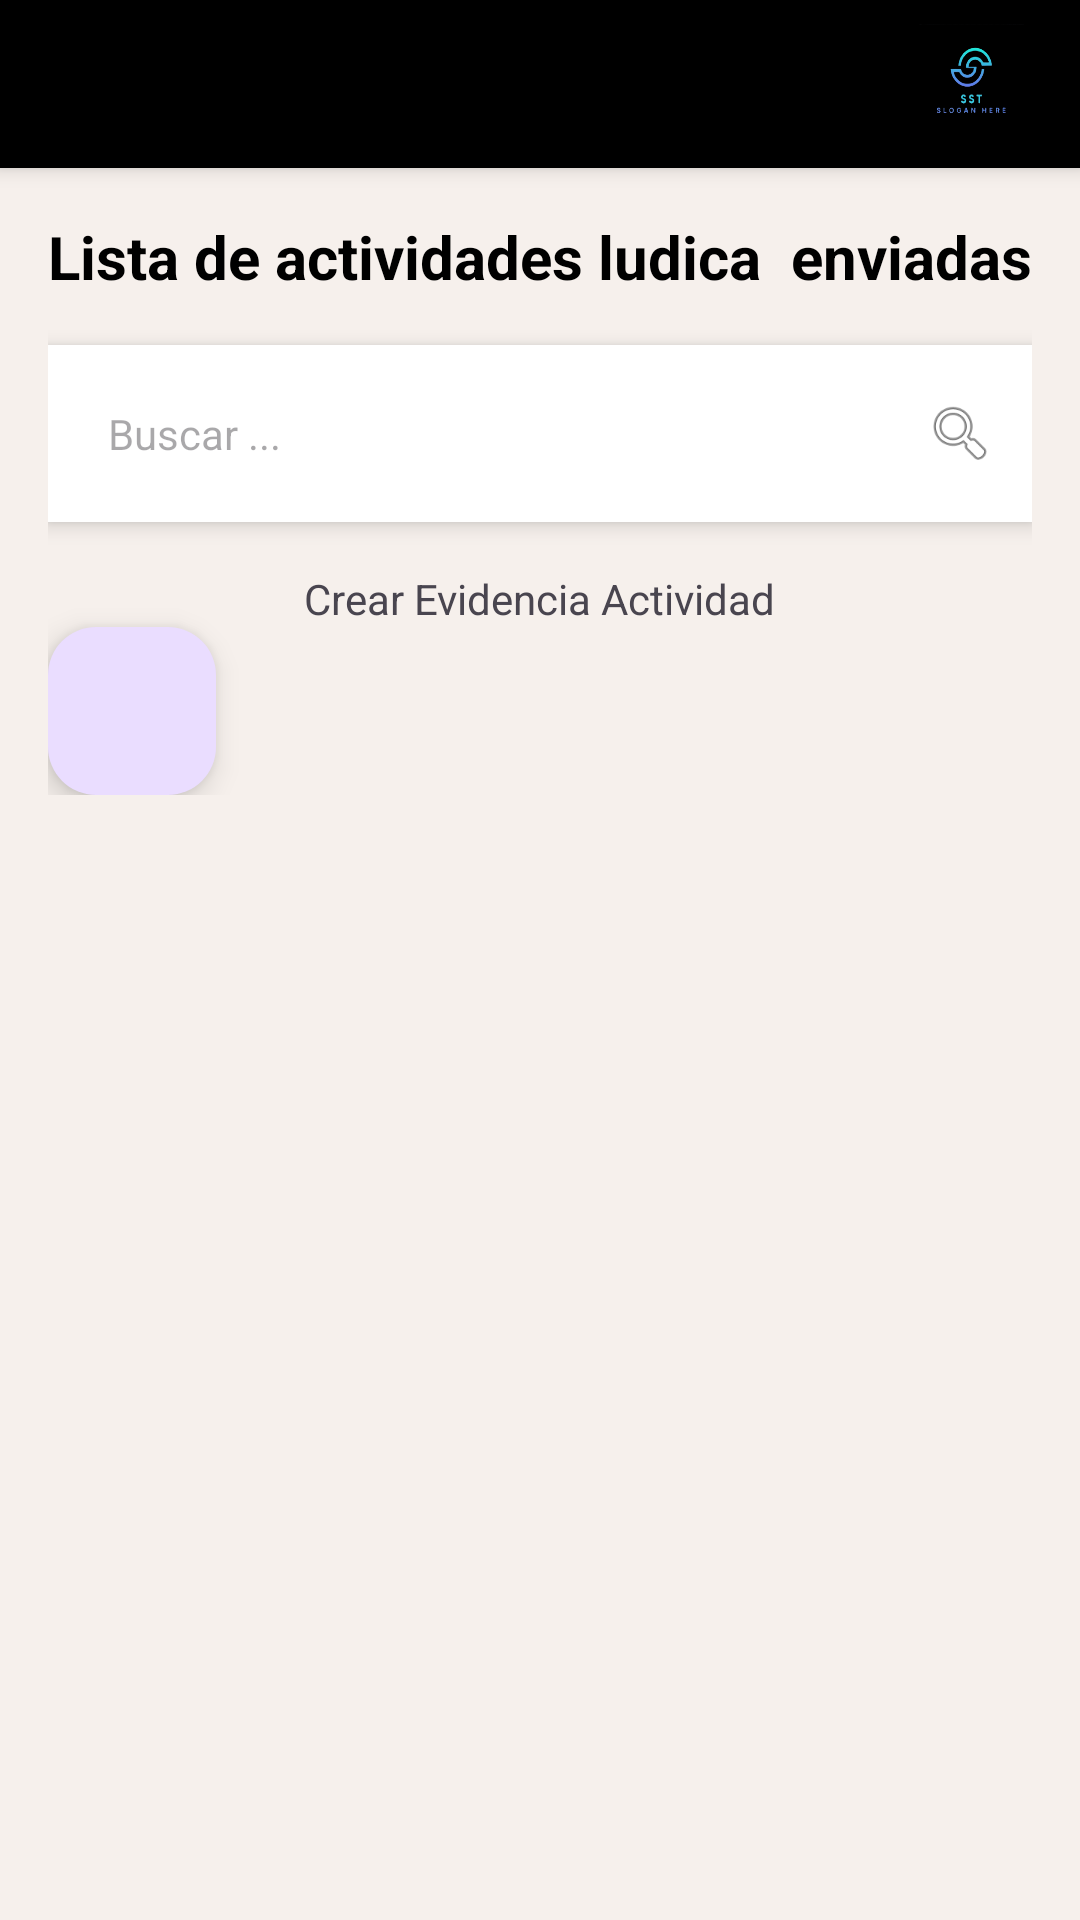

Named icons in this screenshot (1080×1920) and their bounding boxes, (x1, y1, x2, y2):
search: (933, 407, 987, 460)
